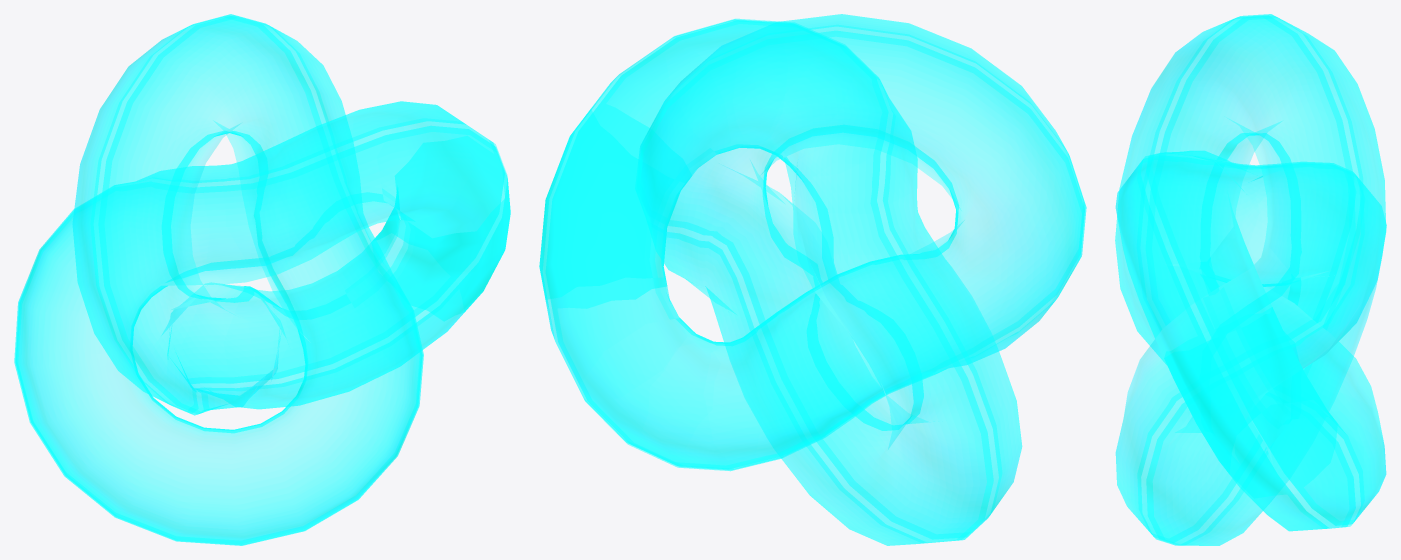
3 renders of one model, left to right at view 1: azimuth 30°, elevation 25°; view 2: azimuth 150°, elevation 25°; view 3: azimuth 270°, elevation 25°, orthographic. The views are drawn at different scales.
Visible parts, largest first — view 1: TorusKnot; view 2: TorusKnot; view 3: TorusKnot.
Part boxes in pixels (<box>): TorusKnot: <box>14,14,510,545</box>; TorusKnot: <box>539,14,1086,545</box>; TorusKnot: <box>1115,14,1386,545</box>.
Size of the model in its own units: 3.46 by 3.6 by 1.78.
Materials: 1 (1 with a texture image).
